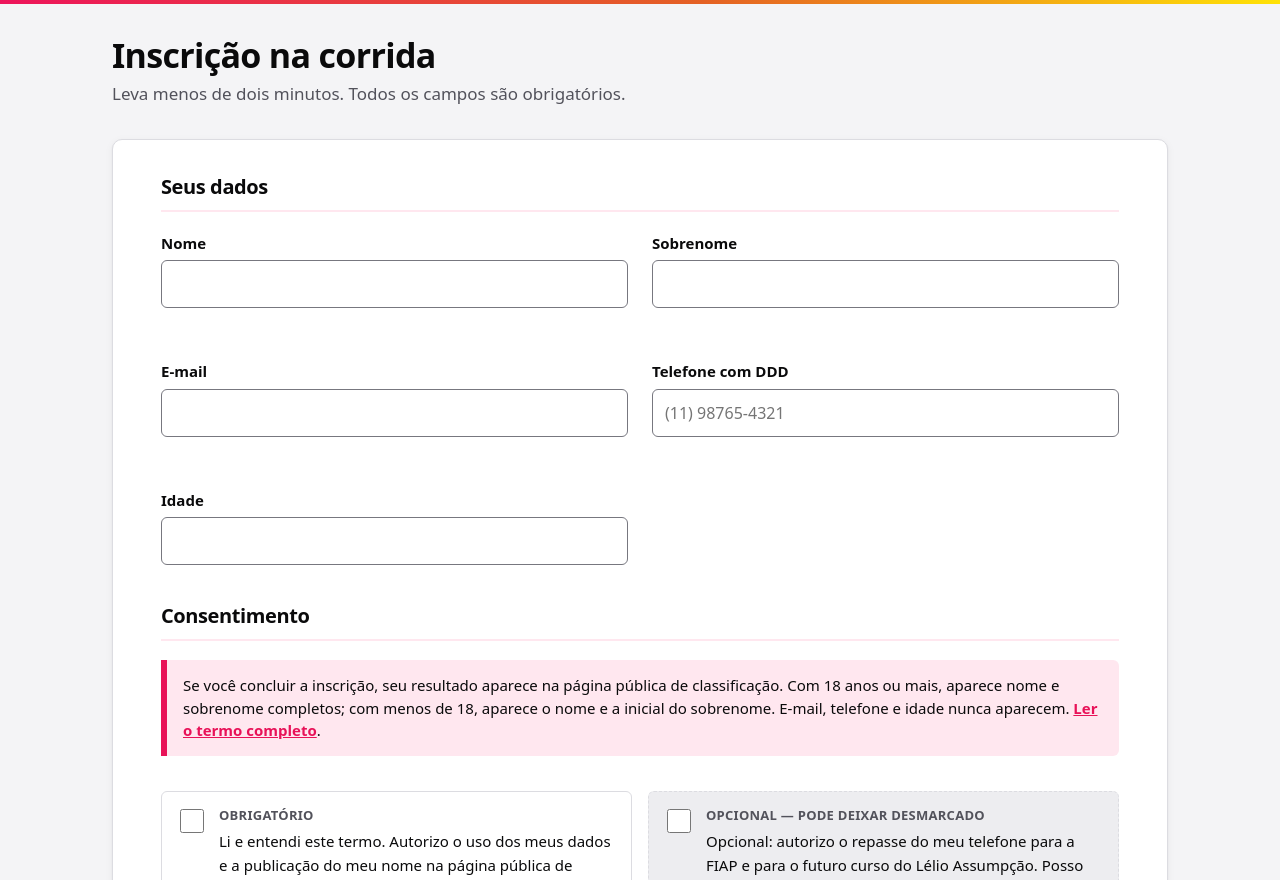
Test: RNF-17 — cada regra com a sua mensagem › mapeia o 422 do servidor de volta para o campo
The width and height of the screenshot is (1280, 880).
Type "Marina" into the field labelled "Nome".
click(394, 284); type("Marina")  # box [161,260,628,308]
Type "Costa" into the field labelled "Sobrenome".
click(886, 284); type("Costa")  # box [652,260,1119,308]
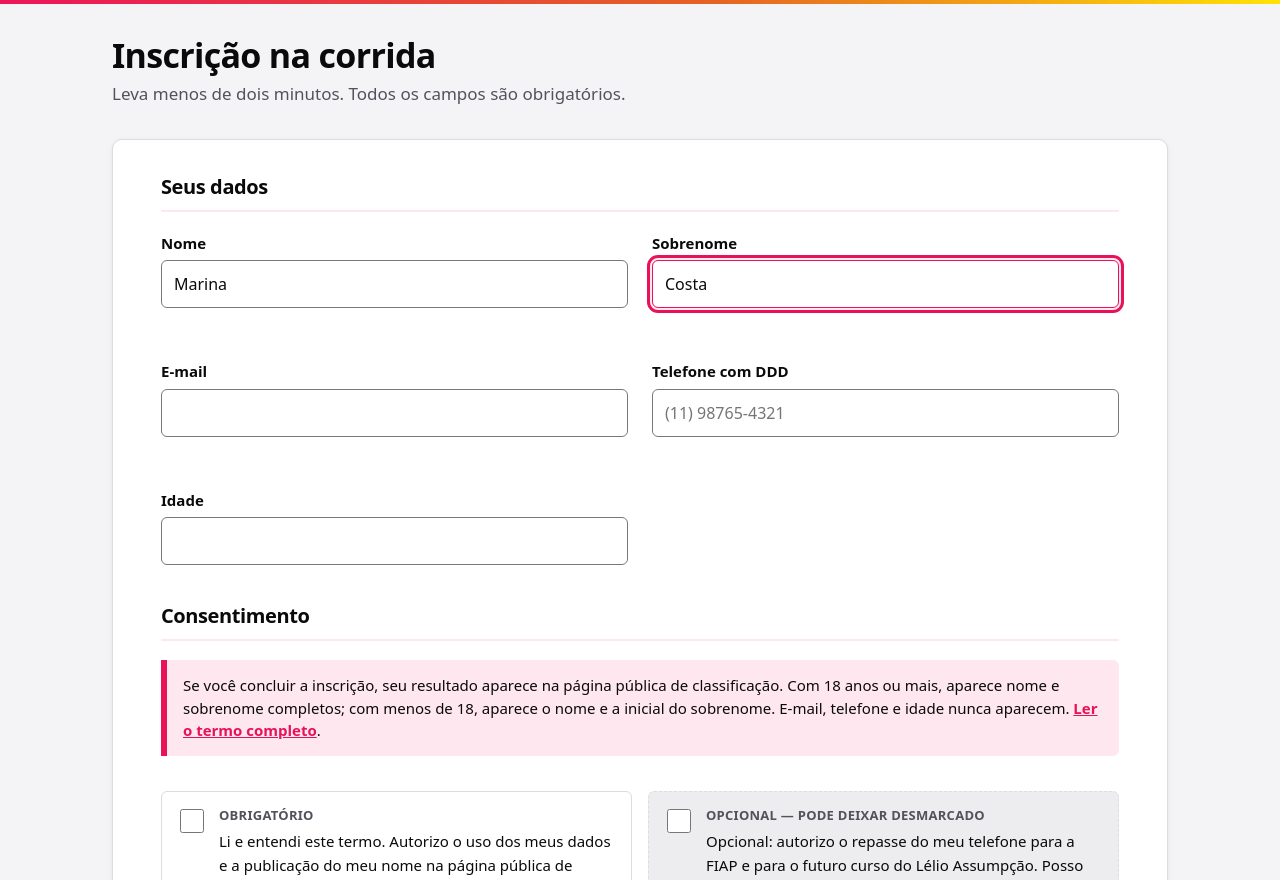
Type "marina@exemplo.com" into the field labelled "E-mail".
click(394, 413); type("marina@exemplo.com")  # box [161,389,628,437]
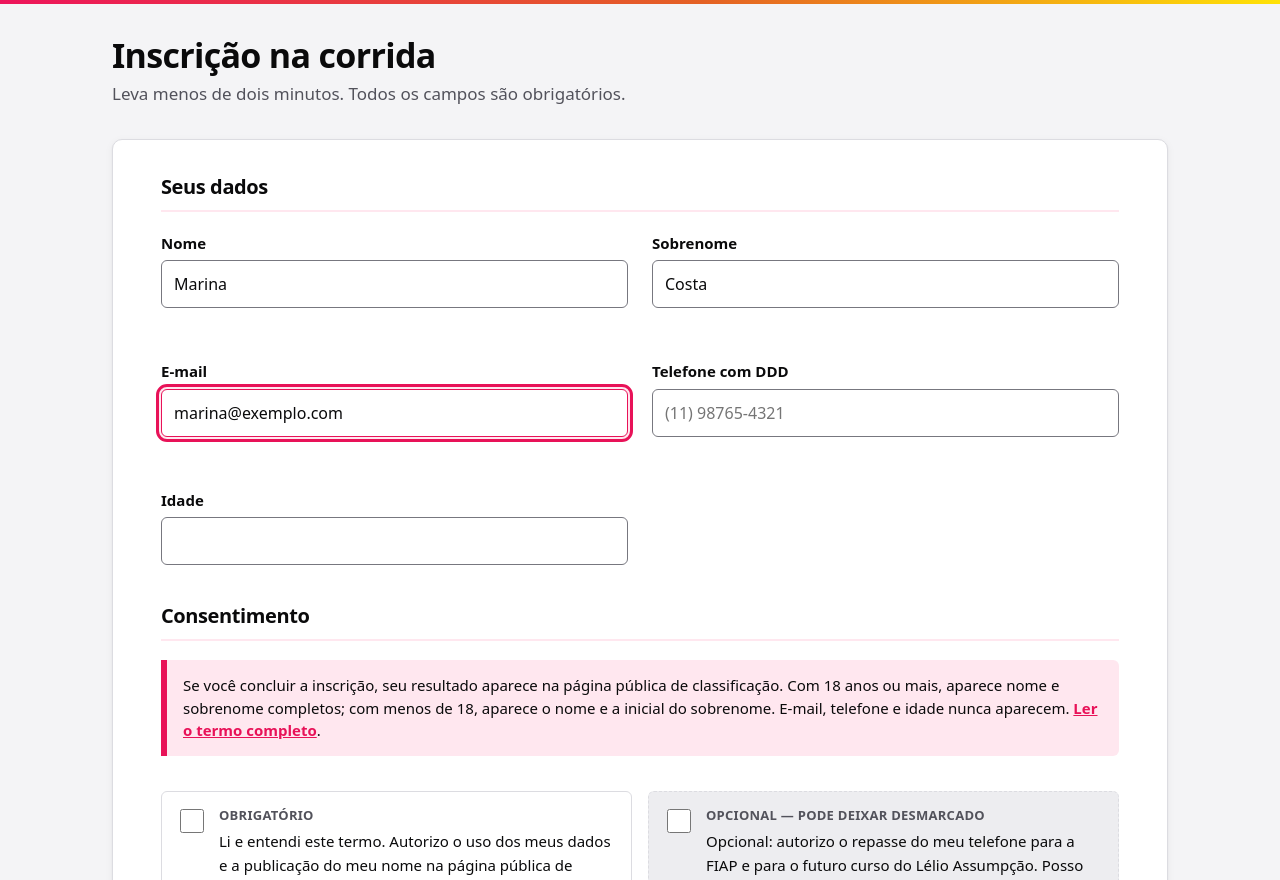
Type "11987654321" into the field labelled "Telefone com DDD".
click(886, 413); type("11987654321")  # box [652,389,1119,437]
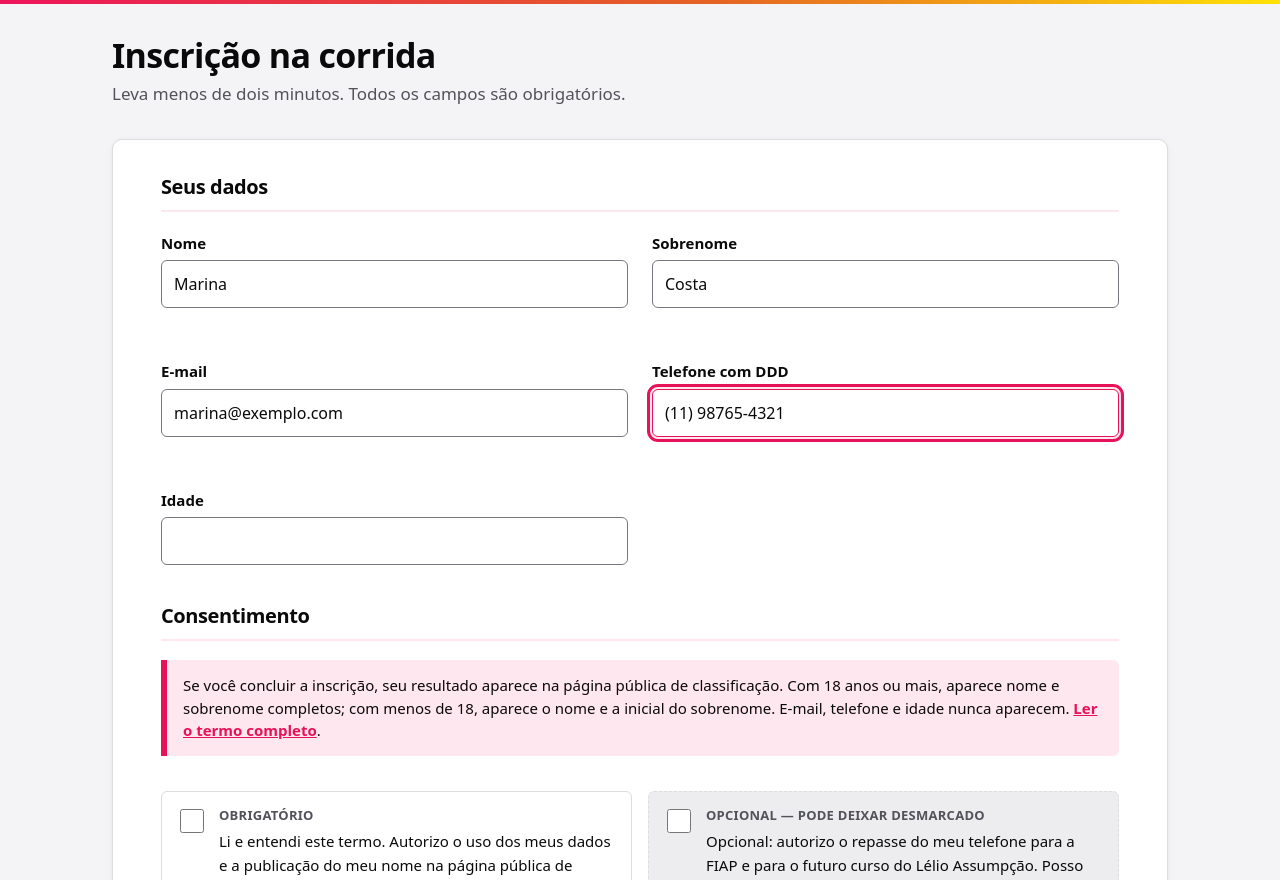
Type "30" into the field labelled "Idade".
click(394, 541); type("30")  # box [161,517,628,565]
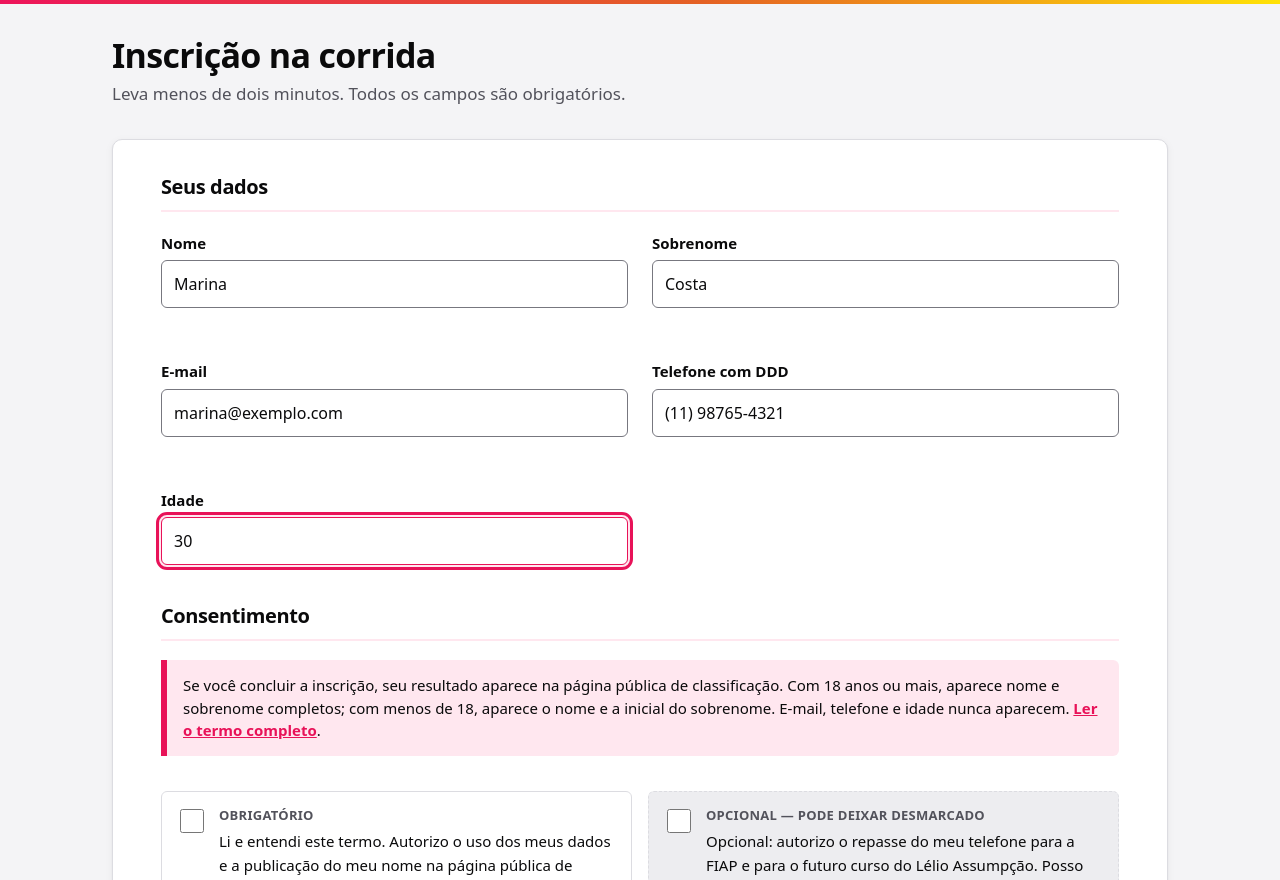
Click the checkbox labelled "Li e entendi este termo".
click(192, 821)  # box [180,809,204,833]
(page scrolled)
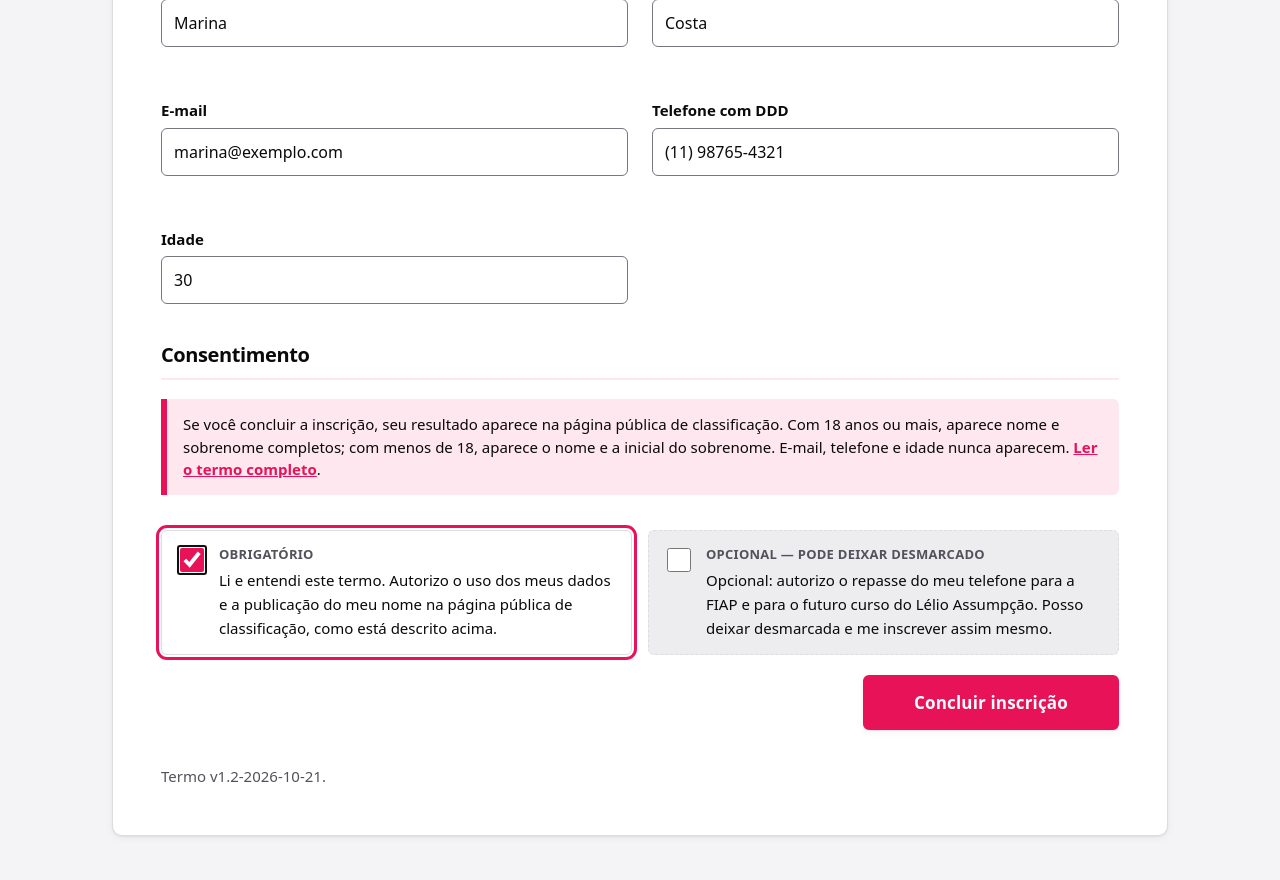
Click the button "Concluir inscrição".
click(991, 703)  # box [863,675,1119,730]
(page scrolled)
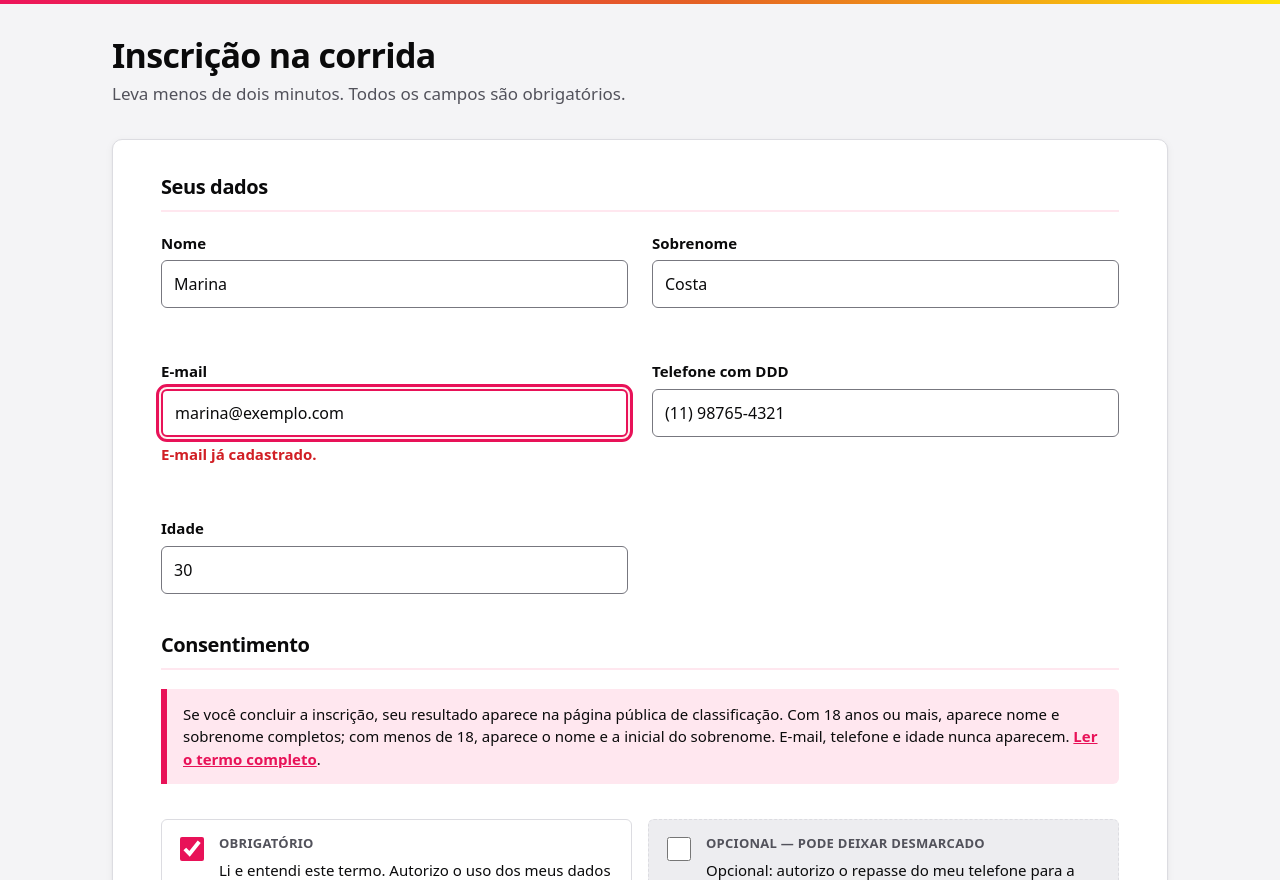
Expected: the text "E-mail já cadastrado." is shown, [161,444,316,464]
